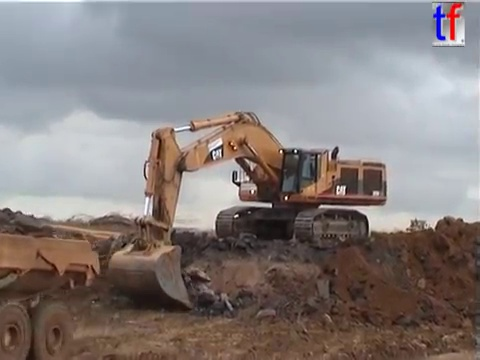excavator: (105, 108, 390, 312)
motor grader: (404, 216, 433, 238)
truck: (1, 230, 102, 360)
